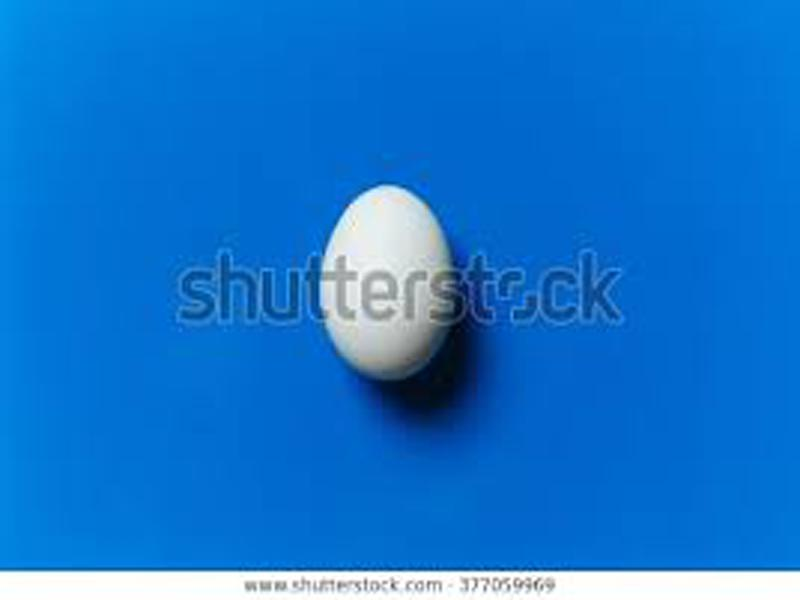Eggs: (322, 179, 454, 380)
